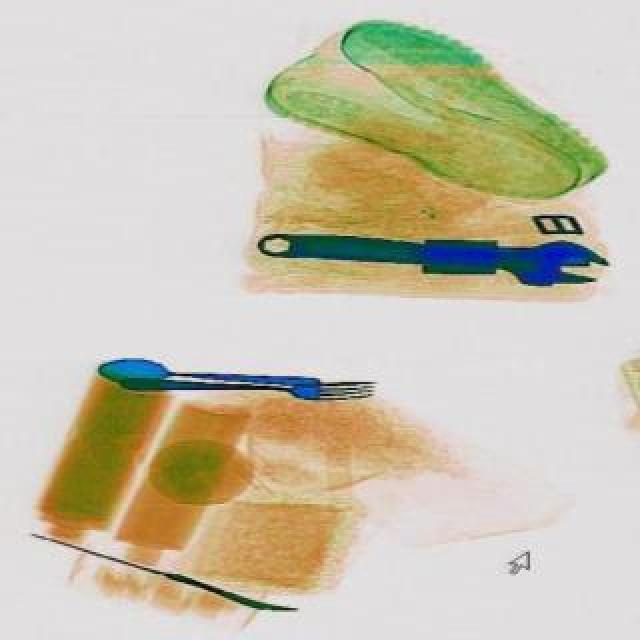scissors: (260, 220, 618, 292)
